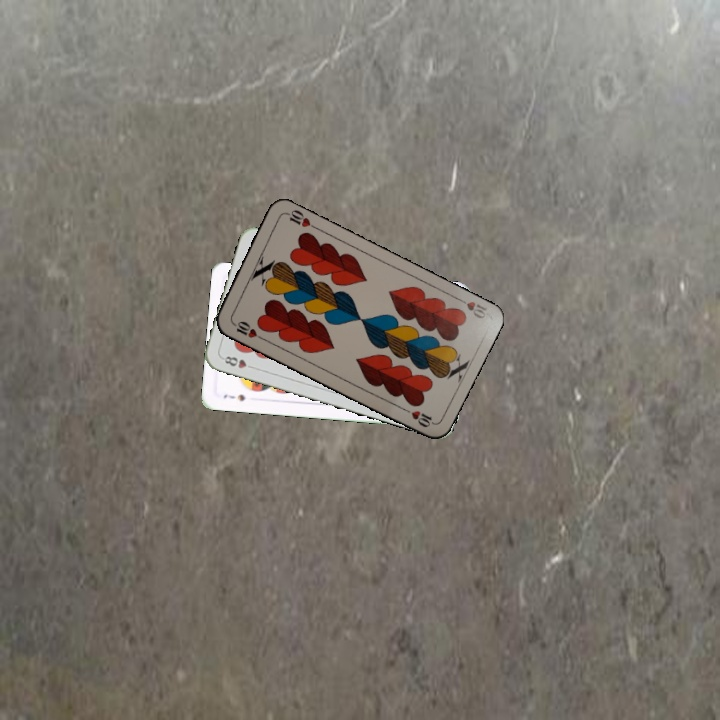H10: (452, 293, 490, 322), (228, 317, 266, 342)
H8: (218, 352, 258, 372)
S7: (220, 390, 248, 404)
